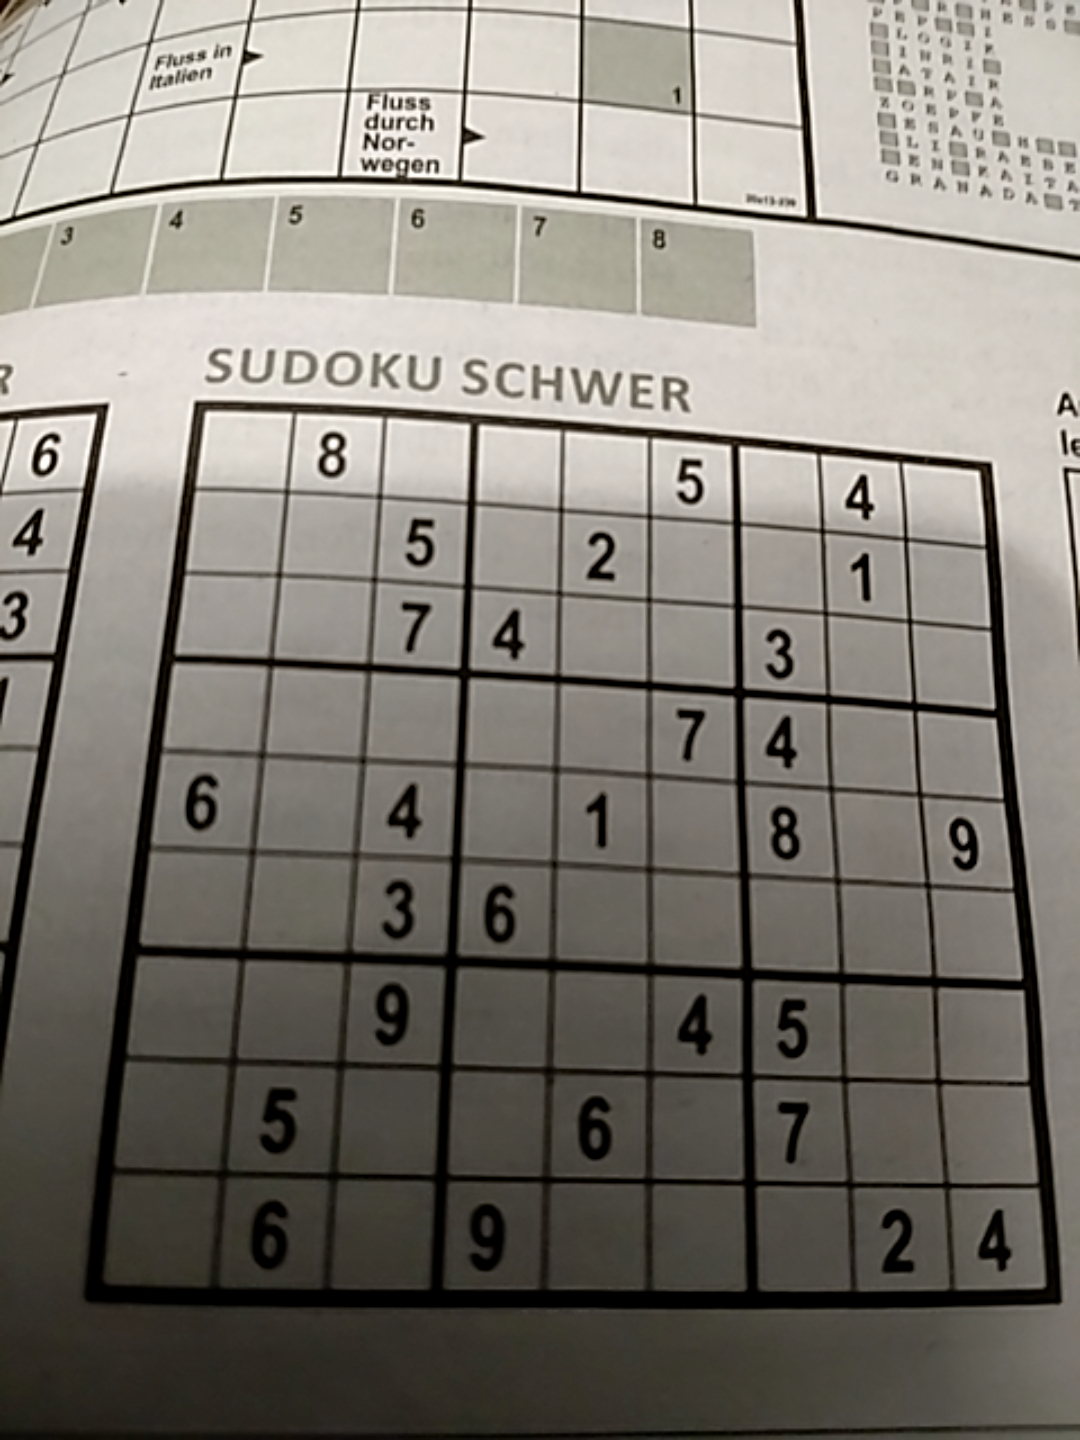sudoku: (80, 396, 1070, 1321)
